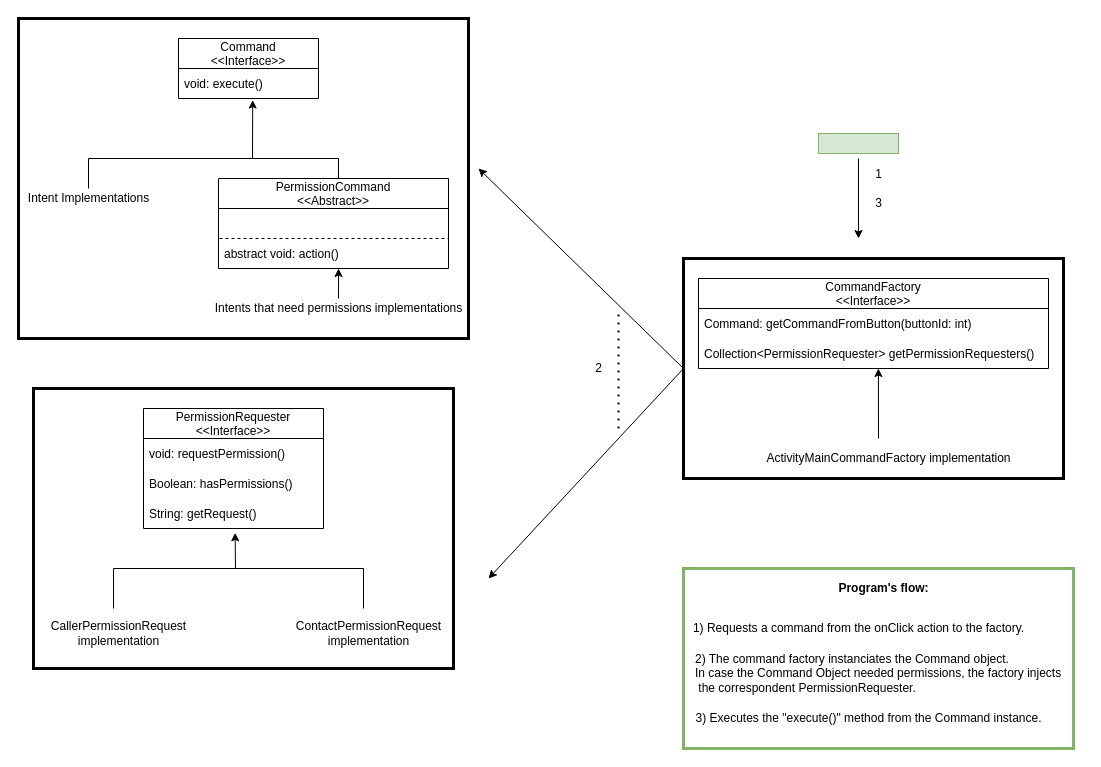
Image size: 1101x767. Some labels were removed from this diagram. Each missing label, with the box of its shape:
MainActivity: (818, 132, 898, 154)
protected: PermissionRequester: (218, 208, 448, 238)
